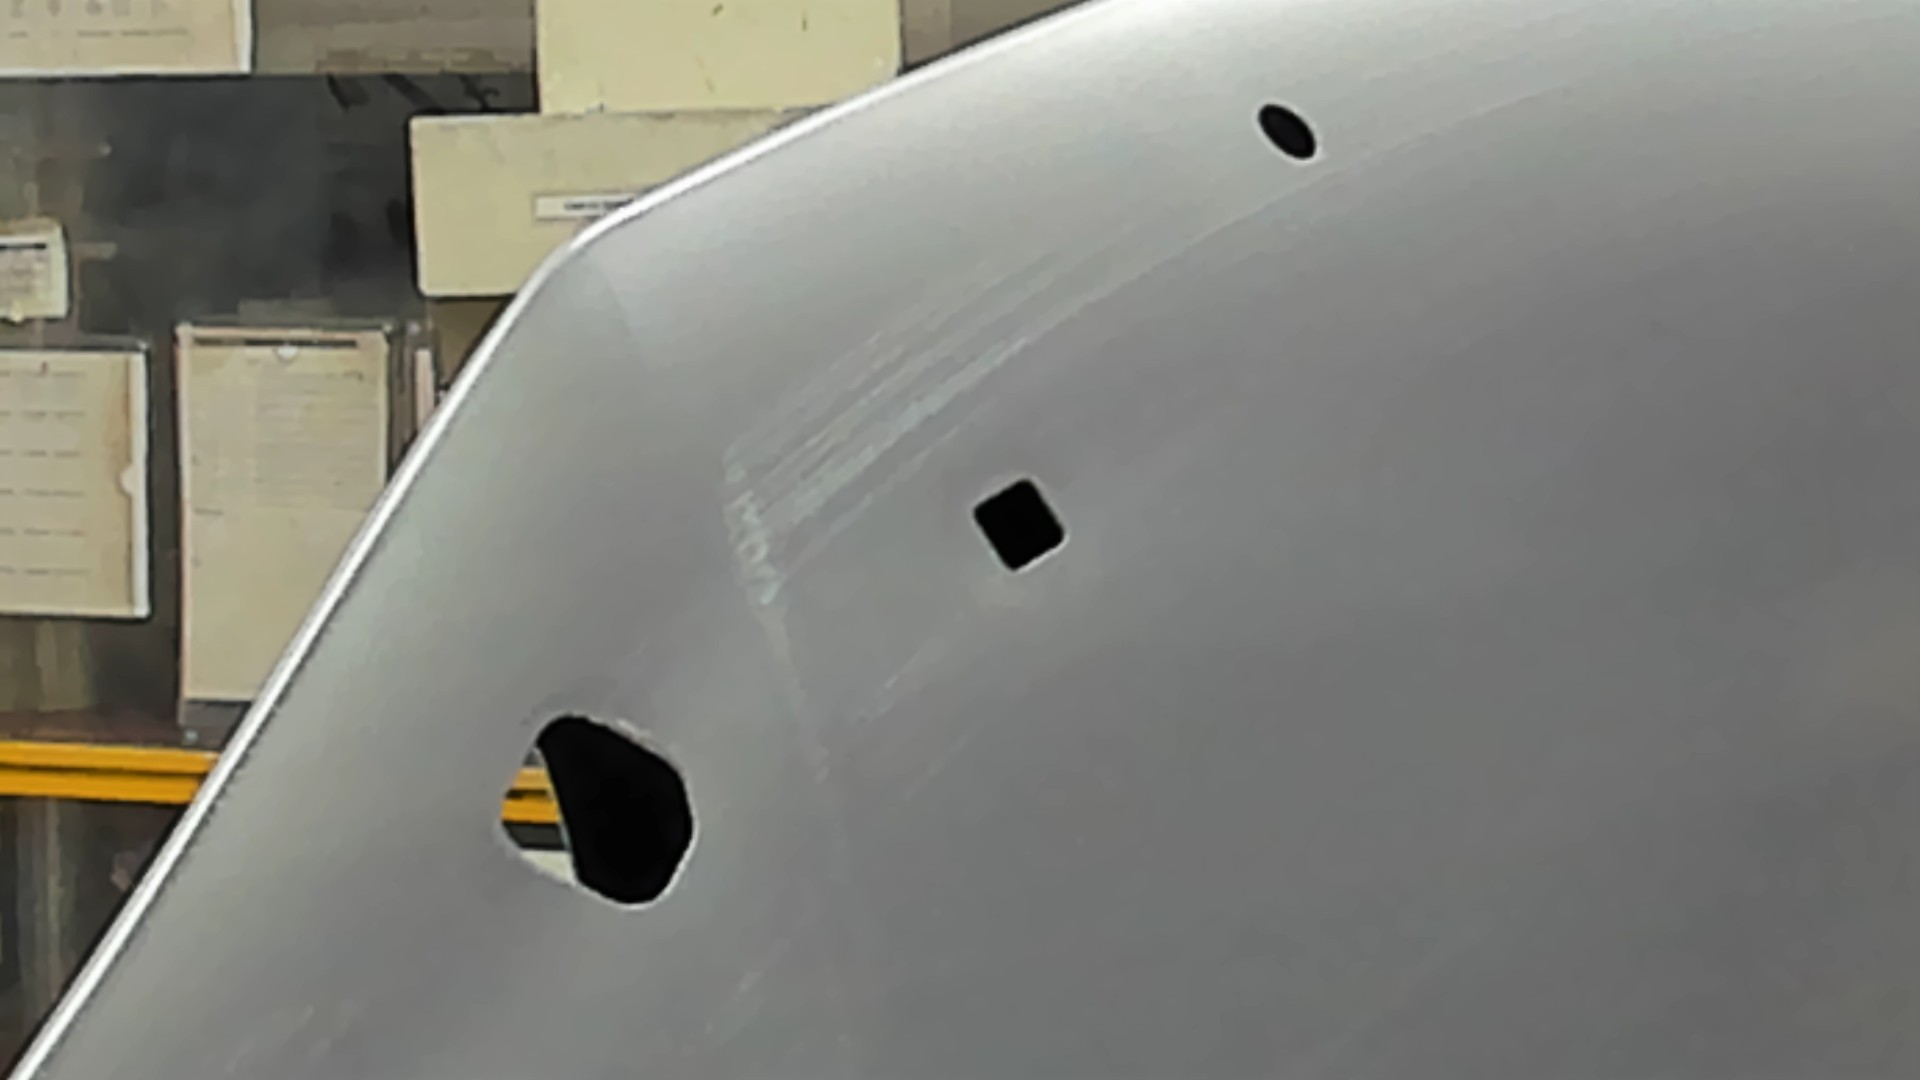chico: (1251, 99, 1323, 164)
grande: (495, 709, 702, 916)
mediano: (968, 473, 1073, 578)
